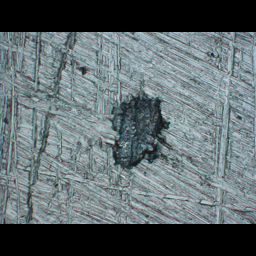d: (106, 84, 172, 173)
